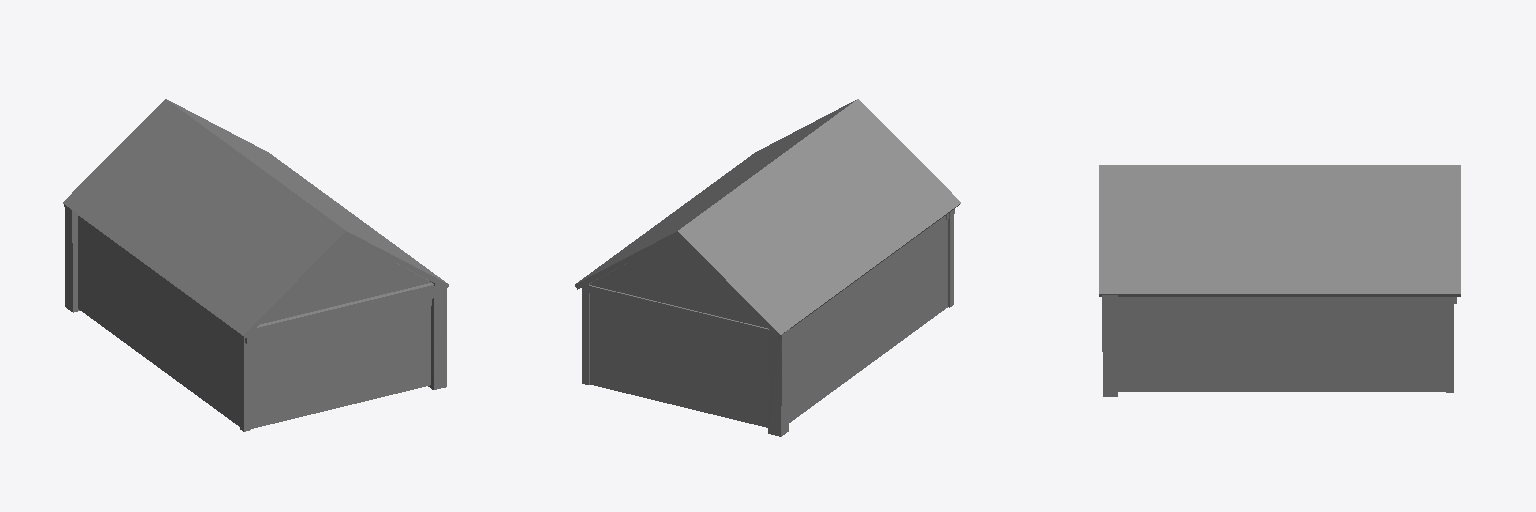
Rendered from Hous_2_Cut.obj.
3 views of the same model, side by side, from view 1: azimuth 30°, elevation 25°; view 2: azimuth 150°, elevation 25°; view 3: azimuth 270°, elevation 25° (orthographic).
Parts seen in each view (by area): view 1: Haus2_T, Haus2_R; view 2: Haus2_T, Haus2_R; view 3: Haus2_R, Haus2_T.
Part boxes in pixels (x1,y1,x2,y2): Haus2_T: (64,204,446,431); Haus2_R: (63,99,448,337); Haus2_T: (582,209,954,436); Haus2_R: (575,99,960,337); Haus2_R: (1099,165,1460,296); Haus2_T: (1102,295,1456,396).
Bounding box in the file's own units: 6.38 × 5.39 × 9.69.